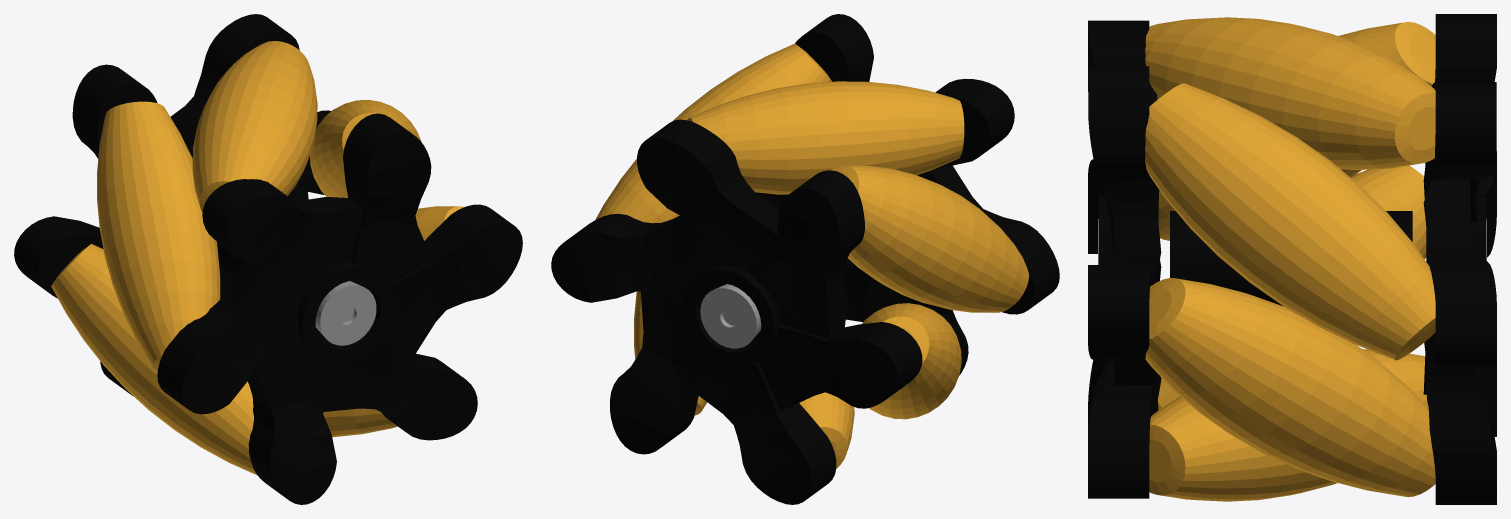
File: wheel1.dae
The picture shows the model from 3 angles, left to right: view 1: azimuth 30°, elevation 25°; view 2: azimuth 150°, elevation 25°; view 3: azimuth 270°, elevation 25°; orthographic projection. The views are drawn at different scales.
Visible parts, largest first — view 1: back-left_wheel; view 2: back-left_wheel; view 3: back-left_wheel.
Boxes of the visible parts, x1,y1,x2,y2 form: back-left_wheel: (14, 14, 522, 504); back-left_wheel: (551, 14, 1059, 504); back-left_wheel: (1088, 14, 1496, 504).
Bounding box in the file's own units: 0.1024 × 0.0844 × 0.0997.
